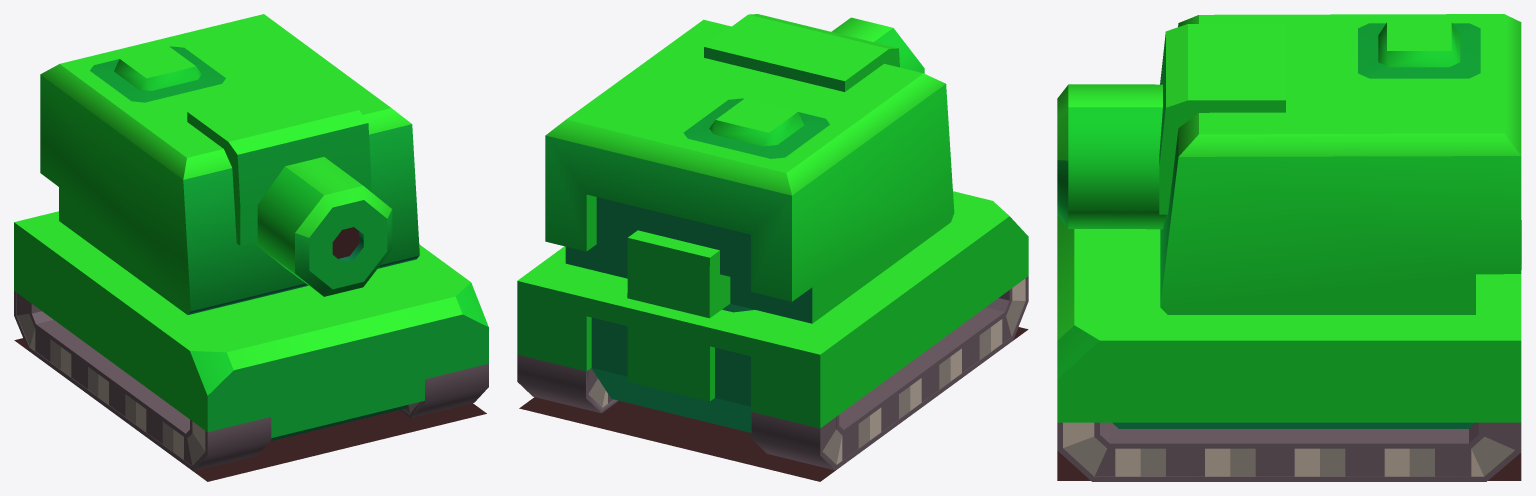
The model's file is MediumTankMesh.GreenEarth.glb.
3 views of the same model, side by side, from view 1: azimuth 30°, elevation 25°; view 2: azimuth 150°, elevation 25°; view 3: azimuth 270°, elevation 25° (orthographic). The views are drawn at different scales.
Visible parts, largest first — view 1: MediumTankMesh.GreenEarth; view 2: MediumTankMesh.GreenEarth; view 3: MediumTankMesh.GreenEarth.
Part boxes in pixels (x1,y1,x2,y2): MediumTankMesh.GreenEarth: [14, 14, 488, 481]; MediumTankMesh.GreenEarth: [517, 14, 1028, 481]; MediumTankMesh.GreenEarth: [1057, 14, 1521, 481].
Bounding box in the file's own units: 1.72 × 1.66 × 2.05.
Materials: 1 (1 with a texture image).
